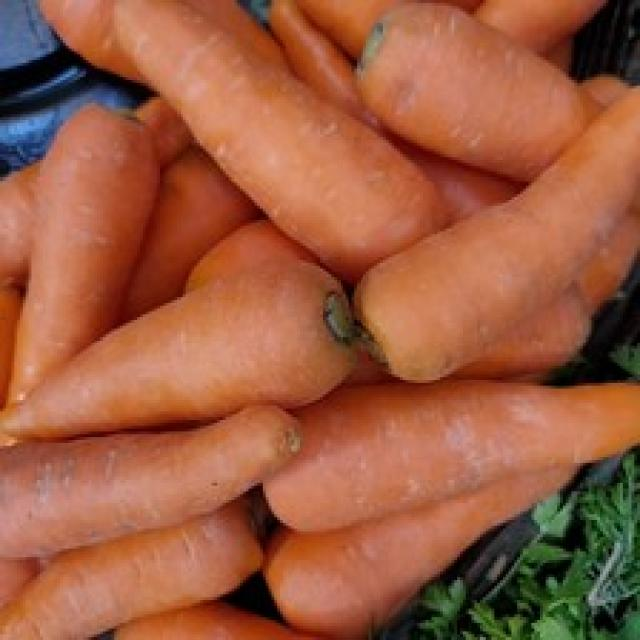Fresh_Carrot: (35, 0, 640, 173), (7, 439, 402, 529), (345, 365, 640, 474), (38, 111, 154, 368)
